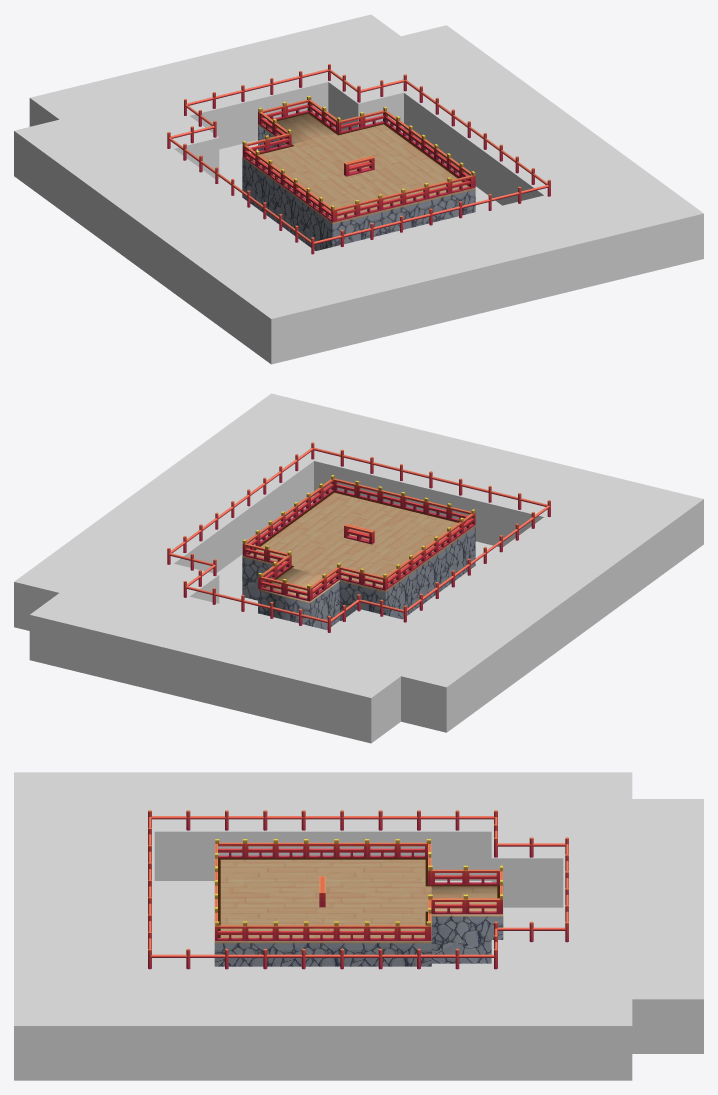
The model's file is Boss_Stage 3 Variant.fbx.
3 views of the same model, one above another, from view 1: azimuth 30°, elevation 25°; view 2: azimuth 150°, elevation 25°; view 3: azimuth 270°, elevation 25° (orthographic). The views are drawn at different scales.
Parts seen in each view (by area): view 1: Platform_Cube.003, Platform_Cube.001, Cube.203, Cube.199, Cube.196; view 2: Platform_Cube.003, Platform_Cube.001, Cube.203, Cube.199, Cube.196; view 3: Platform_Cube.003, Platform_Cube.001, Cube.203, Cube.199, Cube.196, Platform_Cube.002.
Boxes of the visible parts, x1,y1,x2,y2 form: Platform_Cube.003: [14, 14, 703, 364]; Platform_Cube.001: [242, 113, 475, 250]; Cube.203: [242, 96, 475, 222]; Cube.199: [168, 69, 549, 244]; Cube.196: [167, 64, 550, 254]; Platform_Cube.003: [14, 393, 703, 743]; Platform_Cube.001: [242, 492, 475, 629]; Cube.203: [242, 475, 475, 601]; Cube.199: [168, 447, 549, 623]; Cube.196: [167, 442, 550, 632]; Platform_Cube.003: [14, 772, 703, 1080]; Platform_Cube.001: [214, 857, 503, 966]; Cube.203: [215, 839, 502, 940]; Cube.199: [148, 816, 568, 957]; Cube.196: [148, 810, 568, 969]; Platform_Cube.002: [218, 858, 499, 937].
Bounding box in the file's own units: 9967 × 1346 × 11457.
